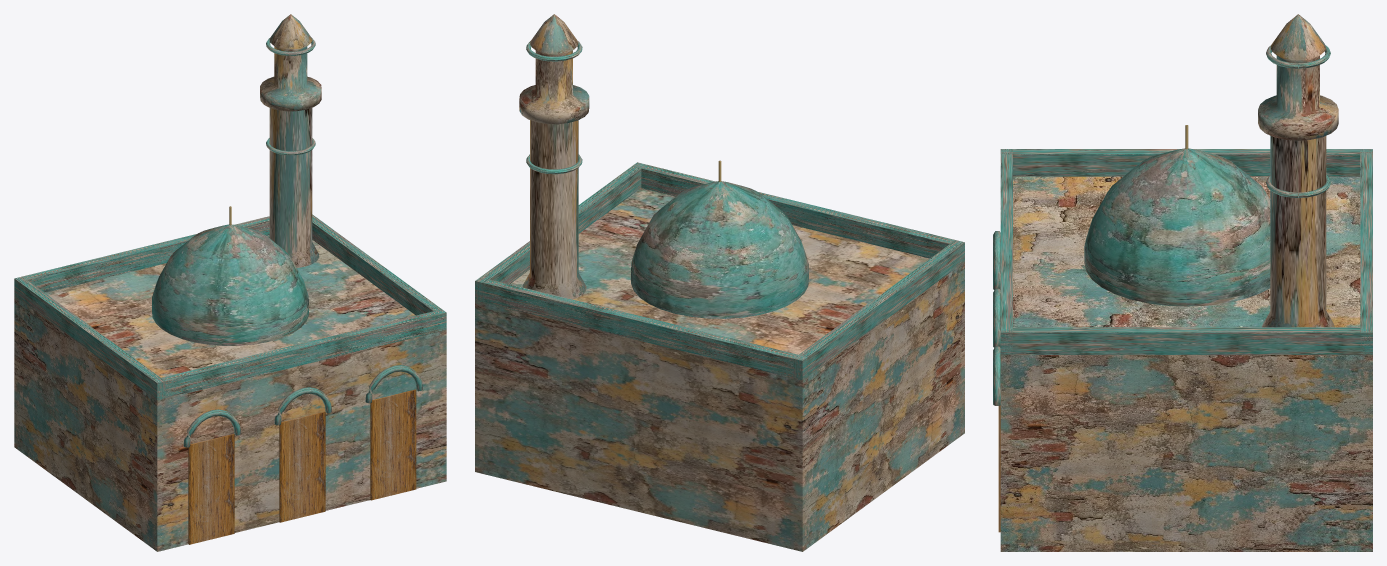
The model's file is bld_mosque.glb.
3 views of the same model, side by side, from view 1: azimuth 30°, elevation 25°; view 2: azimuth 150°, elevation 25°; view 3: azimuth 270°, elevation 25° (orthographic). The views are drawn at different scales.
Visible parts, largest first — view 1: bld_mosque; view 2: bld_mosque; view 3: bld_mosque.
Boxes of the visible parts, <box> form: bld_mosque: <box>14,14,446,551</box>; bld_mosque: <box>475,14,964,551</box>; bld_mosque: <box>993,14,1372,551</box>.
Bounding box in the file's own units: 7 × 9.1 × 6.12.
Materials: 4 (3 with a texture image).
